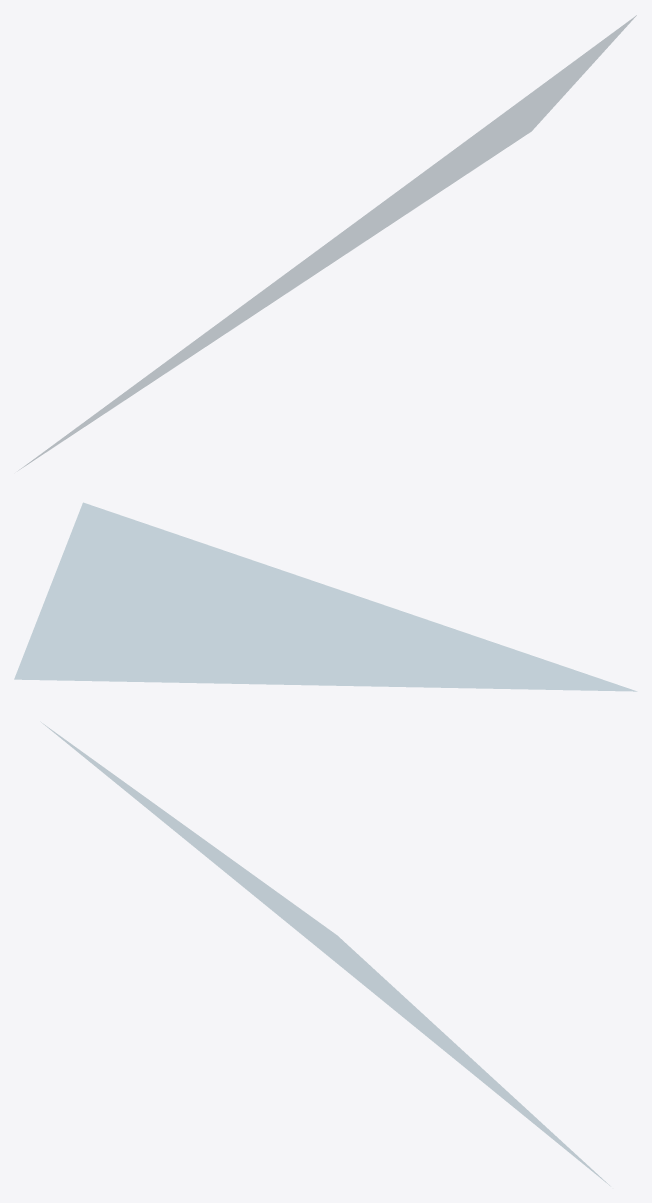
The model's file is StarDeck_Glass_05.fbx.
3 renders of one model, top to bottom at view 1: azimuth 30°, elevation 25°; view 2: azimuth 150°, elevation 25°; view 3: azimuth 270°, elevation 25°, orthographic. The views are drawn at different scales.
Visible parts, largest first — view 1: StarDeck; view 2: StarDeck; view 3: StarDeck.
Boxes of the visible parts, x1,y1,x2,y2 form: StarDeck: [21, 15, 636, 468]; StarDeck: [14, 503, 636, 691]; StarDeck: [45, 725, 607, 1183].
Size of the model in its own units: 1845 by 465 by 957.
